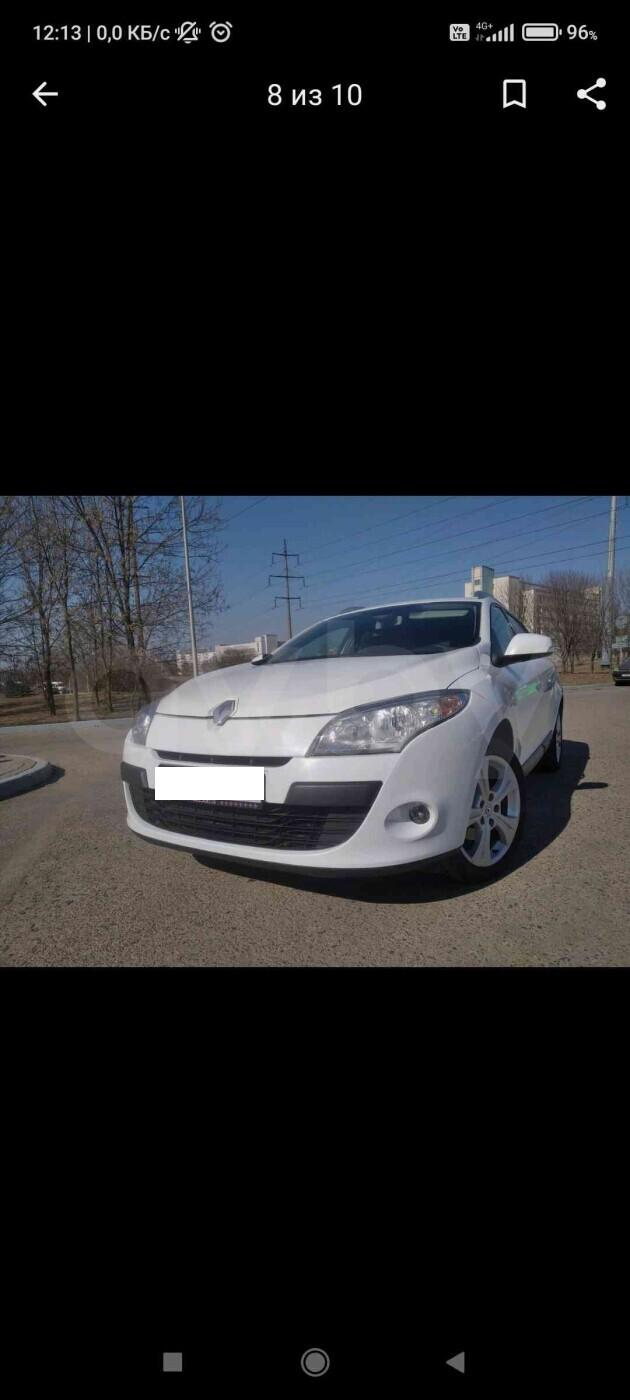Megane_2008-2014: (108, 590, 574, 906)
